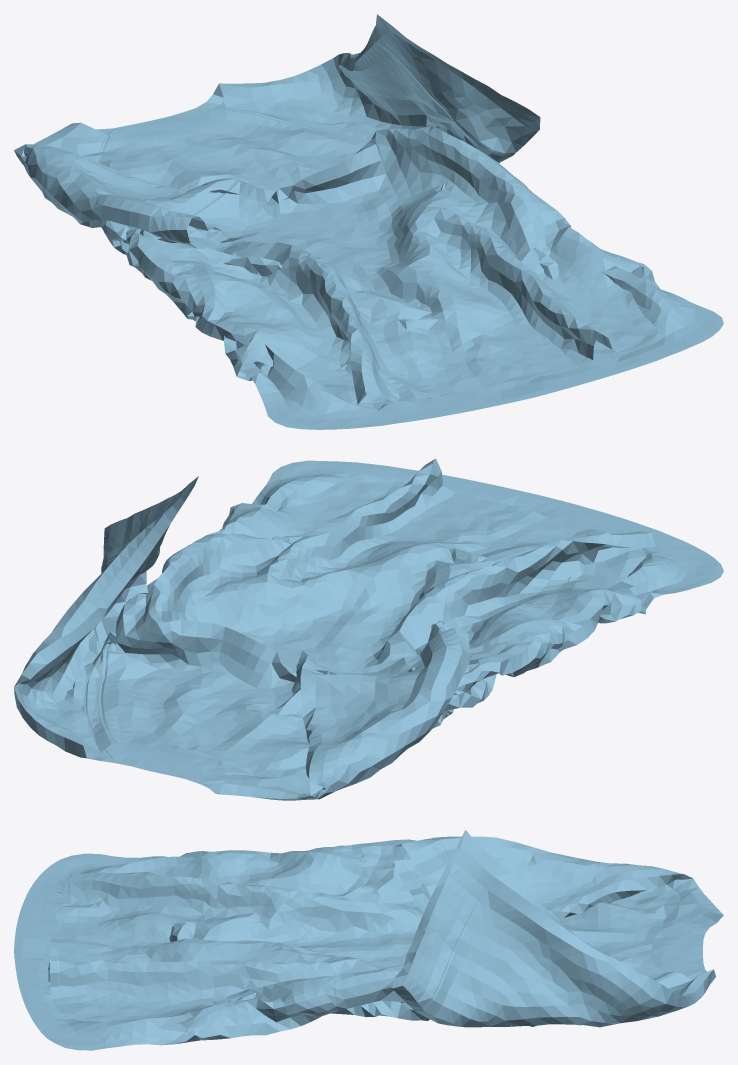
The model's file is frame_13.glb.
The picture shows the model from 3 angles, top to bottom: view 1: azimuth 30°, elevation 25°; view 2: azimuth 150°, elevation 25°; view 3: azimuth 270°, elevation 25°; orthographic projection. The views are drawn at different scales.
Visible parts, largest first — view 1: frame_13.obj; view 2: frame_13.obj; view 3: frame_13.obj.
Boxes of the visible parts, <box> form: frame_13.obj: <box>14,14,723,429</box>; frame_13.obj: <box>14,458,723,800</box>; frame_13.obj: <box>14,829,723,1050</box>.
Bounding box in the file's own units: 1.19 × 0.4811 × 1.81.
